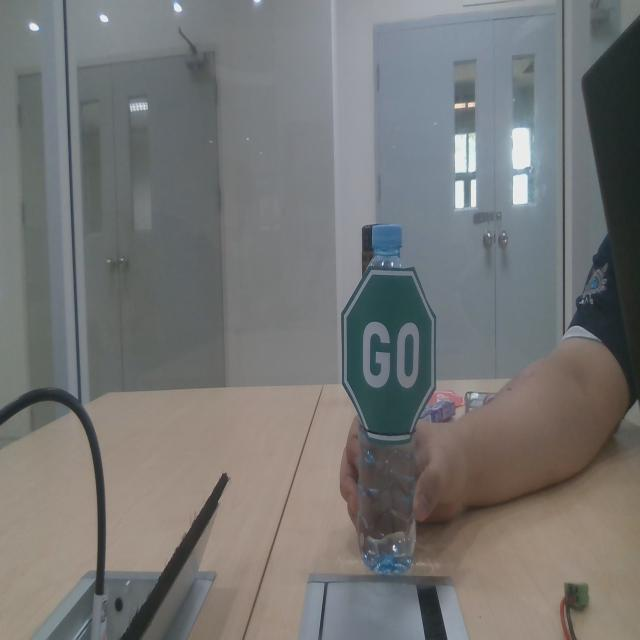Go: (337, 253, 442, 443)
